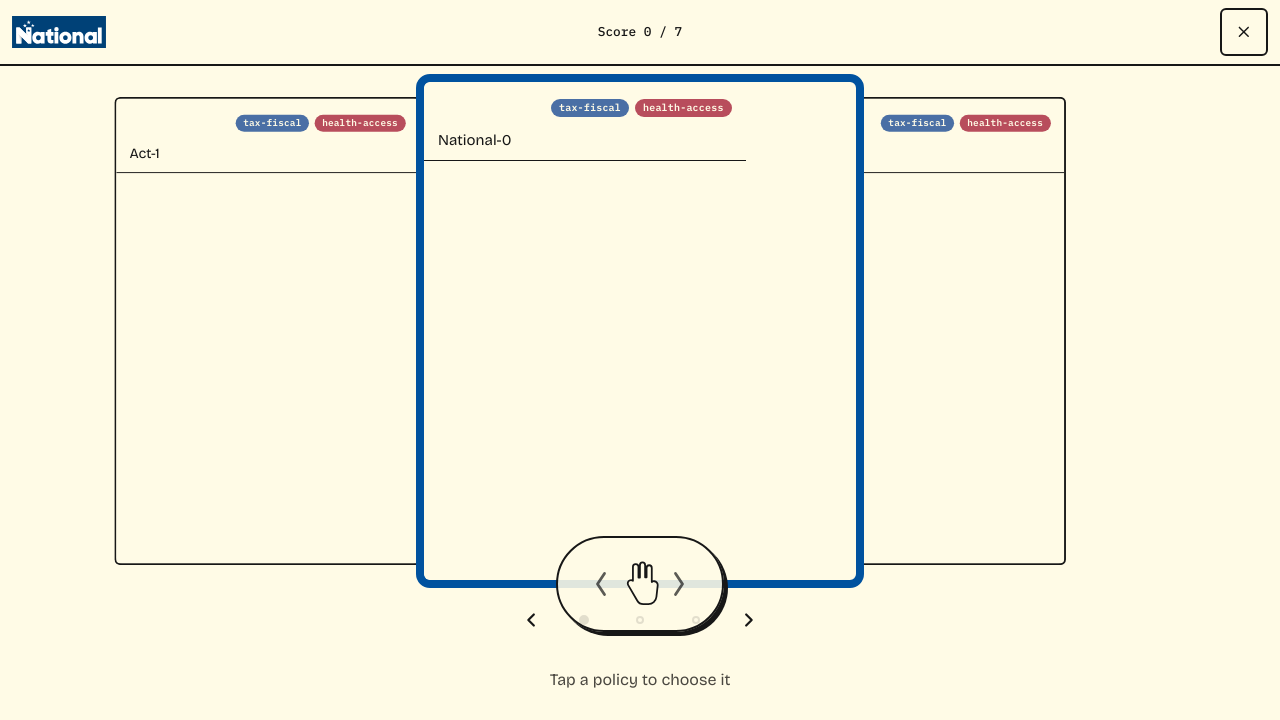
GameOverlay › on a phone, tapping the front policy shows Submit without guessing
This screenshot has width=1280, height=720.
Expected: the button "Submit" is not shown
Expected: the text "Tap a policy to choose it" is shown, [550, 670, 730, 689]
Click the button with aria-label "Policy 1" at [640, 331], box [416, 74, 864, 588]
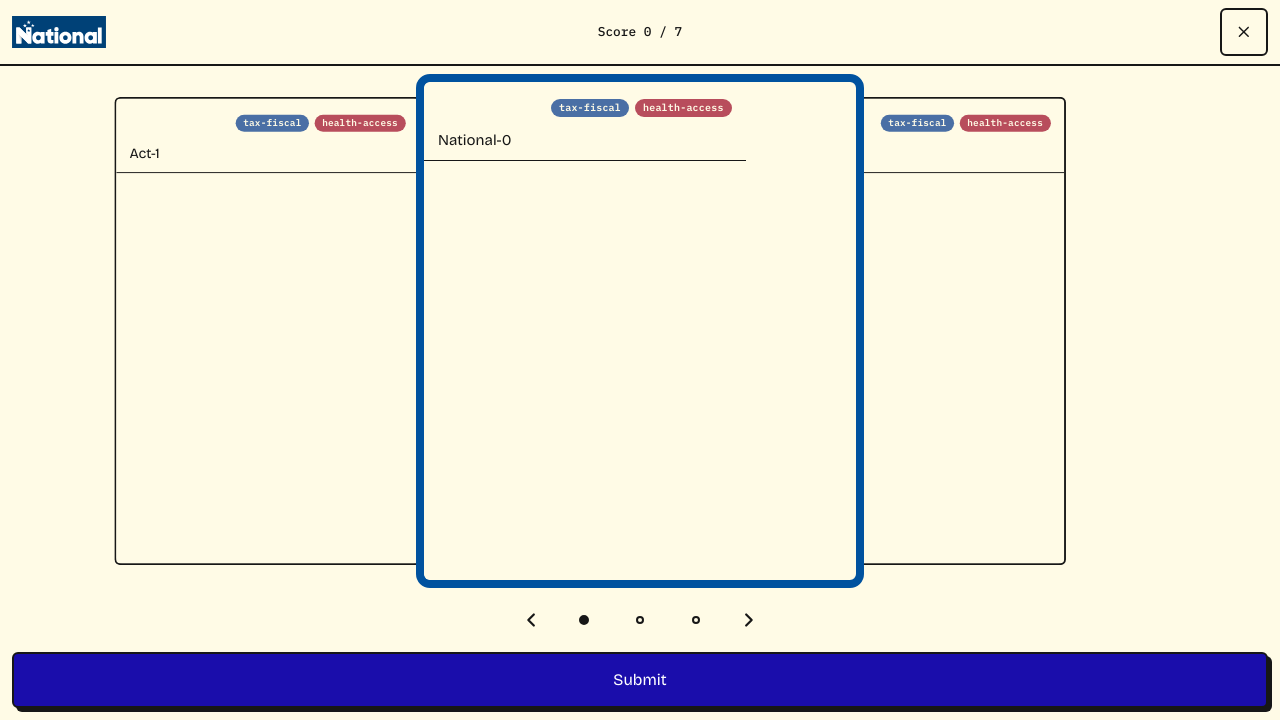
Expected: the button "Submit" is shown, [12, 652, 1268, 708]
Expected: the text "Tap a policy to choose it" is gone
